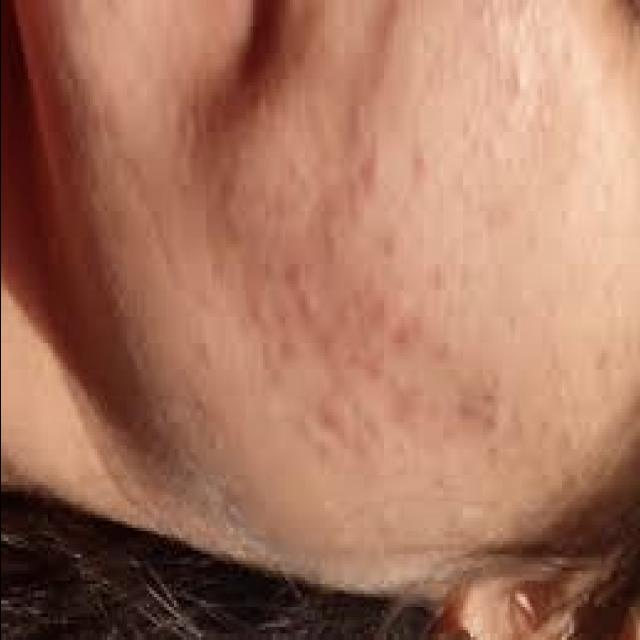Acne: (282, 260, 311, 292), (358, 160, 380, 192), (322, 396, 344, 425), (410, 152, 432, 176), (300, 293, 320, 317)
